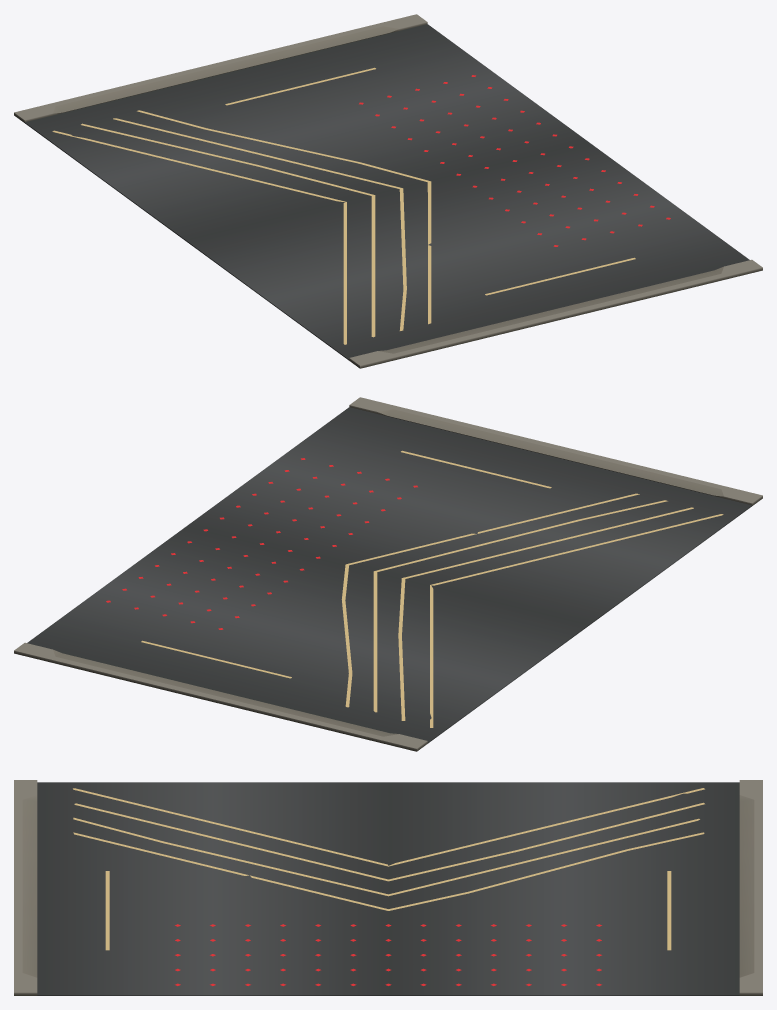
File: Runway_1A.fbx
3 renders of one model, top to bottom at view 1: azimuth 30°, elevation 25°; view 2: azimuth 150°, elevation 25°; view 3: azimuth 270°, elevation 25°, orthographic. The views are drawn at different scales.
Parts seen in each view (by area): view 1: Runway_1A; view 2: Runway_1A; view 3: Runway_1A.
Part boxes in pixels (x1,y1,x2,y2): Runway_1A: [14, 14, 762, 368]; Runway_1A: [14, 397, 762, 751]; Runway_1A: [14, 780, 762, 995].
Bounding box in the file's own units: 4300 × 30 × 6400.
